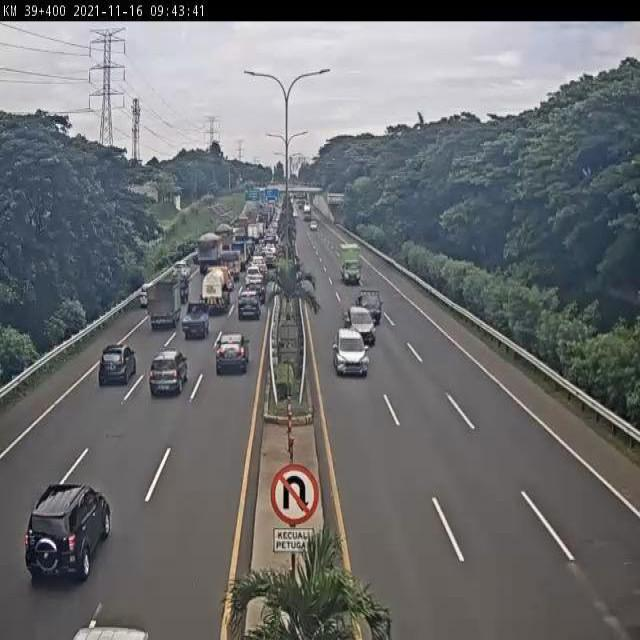car: (21, 479, 111, 589), (146, 347, 189, 404), (91, 346, 136, 398), (333, 325, 369, 379), (214, 330, 251, 378), (343, 304, 378, 347), (180, 299, 210, 341), (356, 285, 383, 324), (235, 292, 261, 321), (167, 274, 189, 306), (244, 275, 267, 304), (167, 262, 188, 286), (244, 265, 264, 288), (138, 283, 149, 309), (251, 253, 266, 272), (264, 251, 278, 268)
small truck: (146, 276, 185, 332), (339, 242, 363, 286), (218, 250, 242, 282)
truck-m-: (200, 265, 231, 316), (195, 234, 223, 278), (212, 223, 232, 252)
